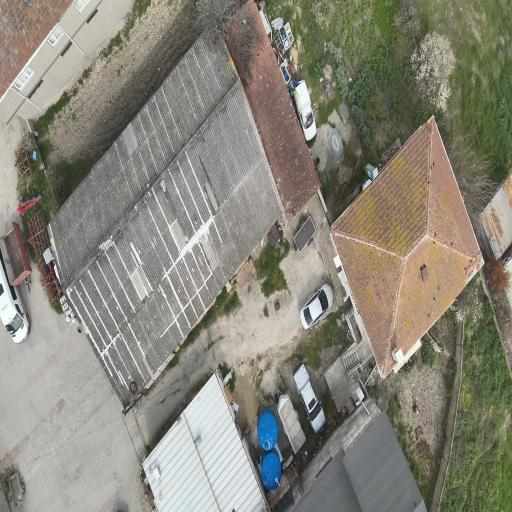car: (0, 254, 30, 343), (293, 363, 326, 433), (300, 284, 333, 329), (294, 81, 316, 140)
